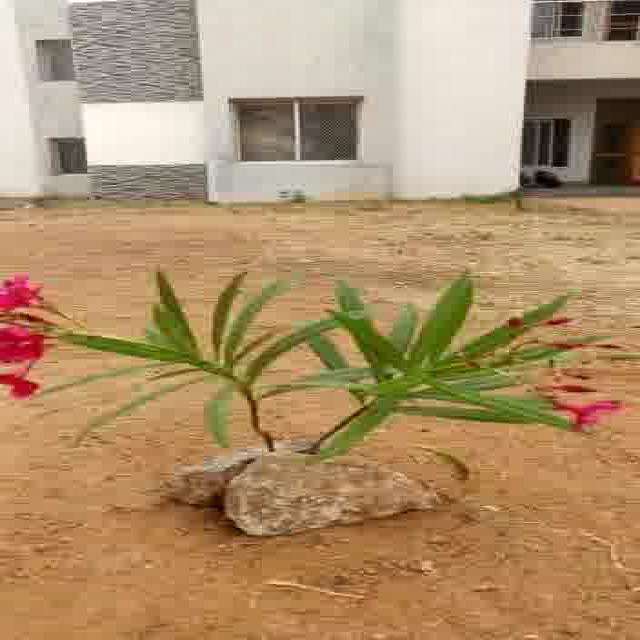Oleander: (0, 284, 593, 484)
